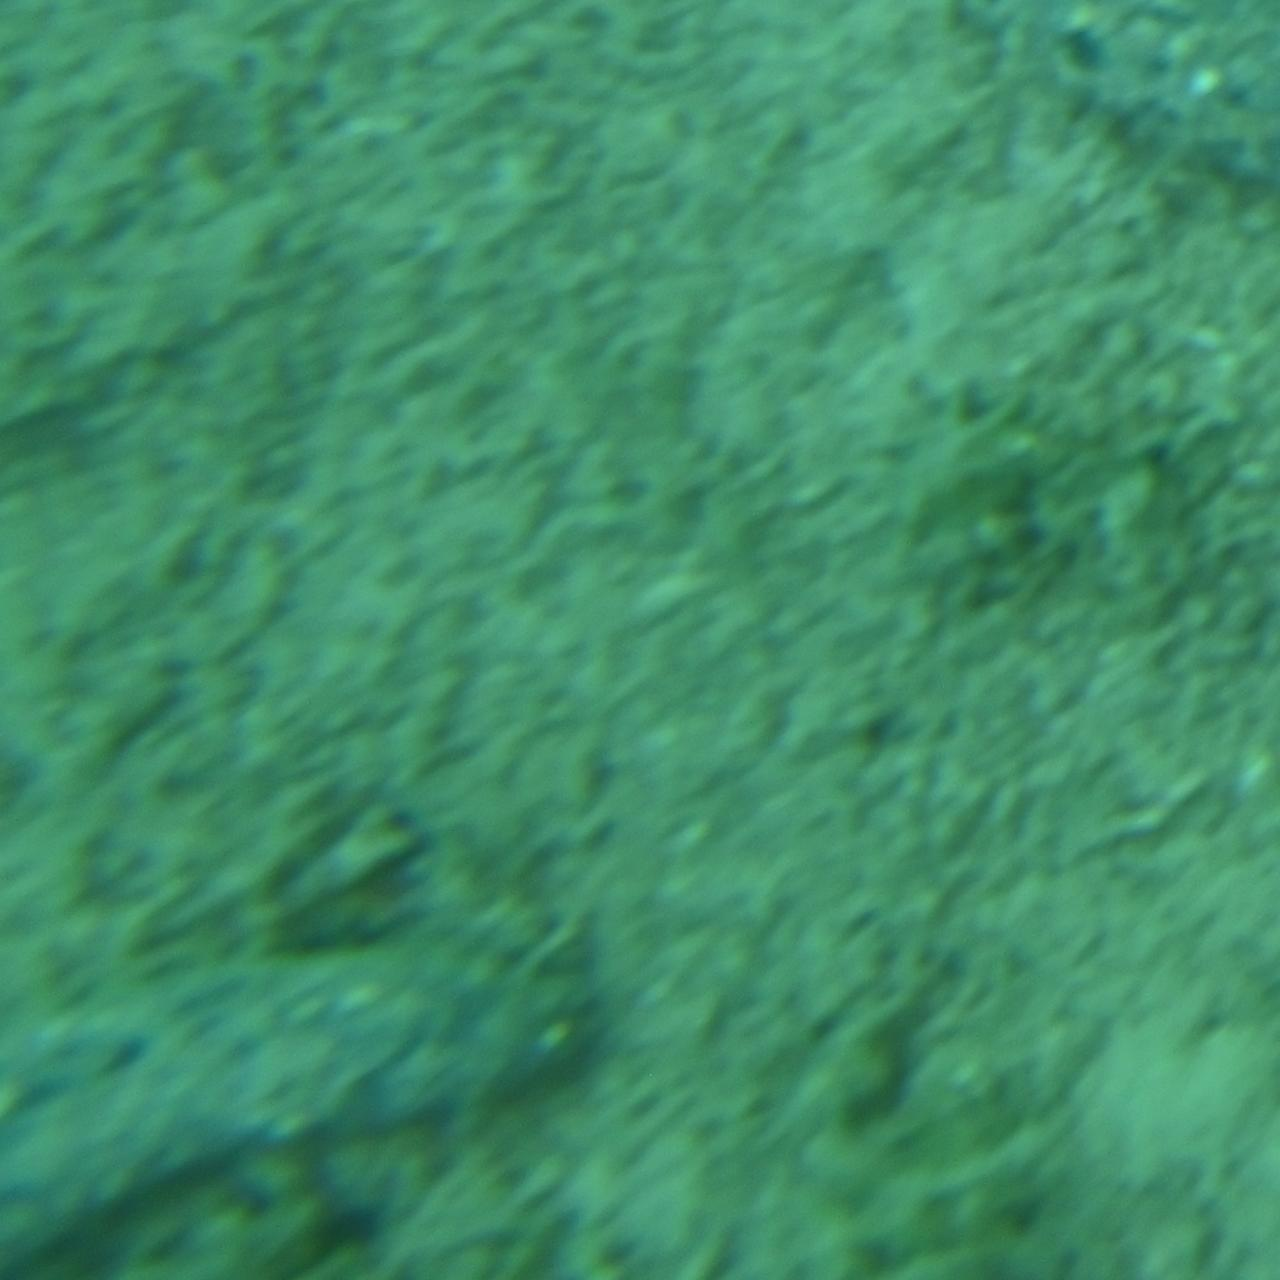Holothuria tubulosa: (0, 946, 614, 1279)
